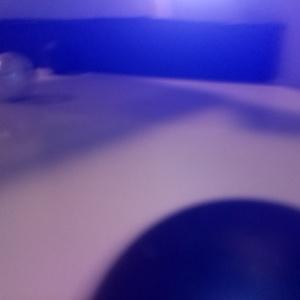alive_ball: (1, 52, 36, 100)
dead_ball: (88, 200, 300, 300)
